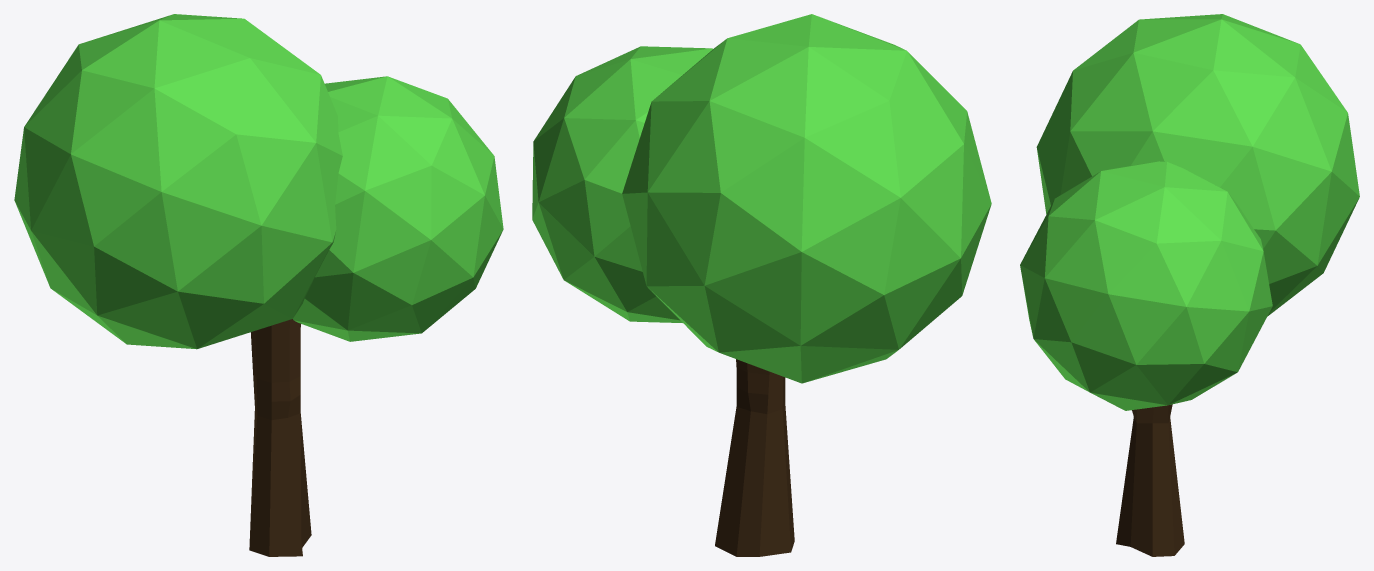
Rendered from tree (1).fbx.
3 views of the same model, side by side, from view 1: azimuth 30°, elevation 25°; view 2: azimuth 150°, elevation 25°; view 3: azimuth 270°, elevation 25° (orthographic). The views are drawn at different scales.
Visible parts, largest first — view 1: Icosphere.001, Icosphere, Cube; view 2: Icosphere.001, Icosphere, Cube; view 3: Icosphere.001, Icosphere, Cube.
Boxes of the visible parts, x1=… form: Icosphere.001: x1=14, y1=14, x2=342, y2=349; Icosphere: x1=293, y1=76, x2=503, y2=341; Cube: x1=249, y1=319, x2=311, y2=556; Icosphere.001: x1=622, y1=14, x2=991, y2=383; Icosphere: x1=532, y1=46, x2=712, y2=322; Cube: x1=715, y1=359, x2=794, y2=556; Icosphere.001: x1=1036, y1=14, x2=1359, y2=316; Icosphere: x1=1020, y1=161, x2=1272, y2=410; Cube: x1=1116, y1=404, x2=1184, y2=556.
Bounding box in the file's own units: 1879 × 2207 × 1403.
